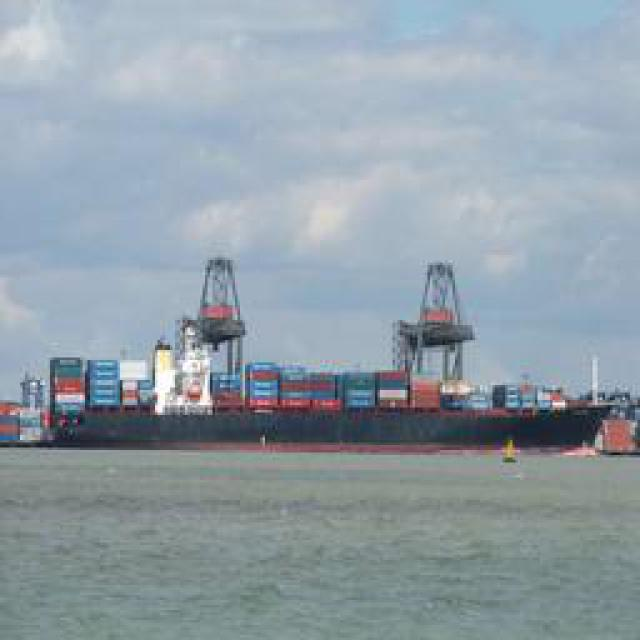Ship: (25, 260, 623, 453)
